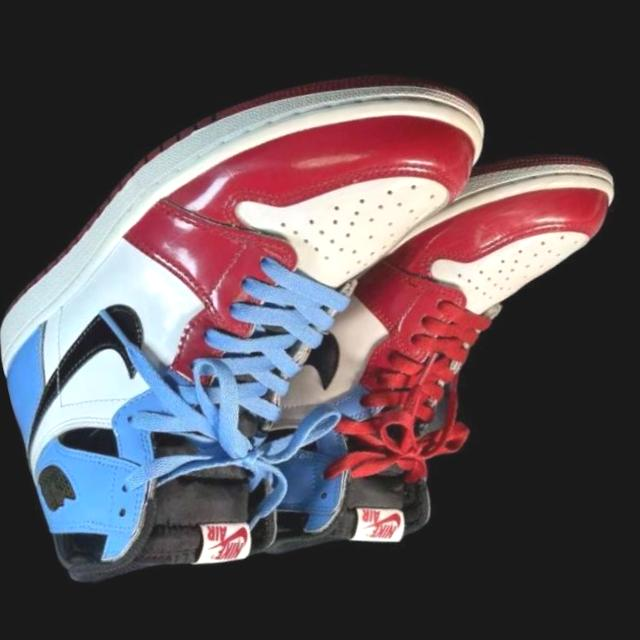nike_original_jordan: (0, 38, 582, 610), (151, 130, 640, 586)
